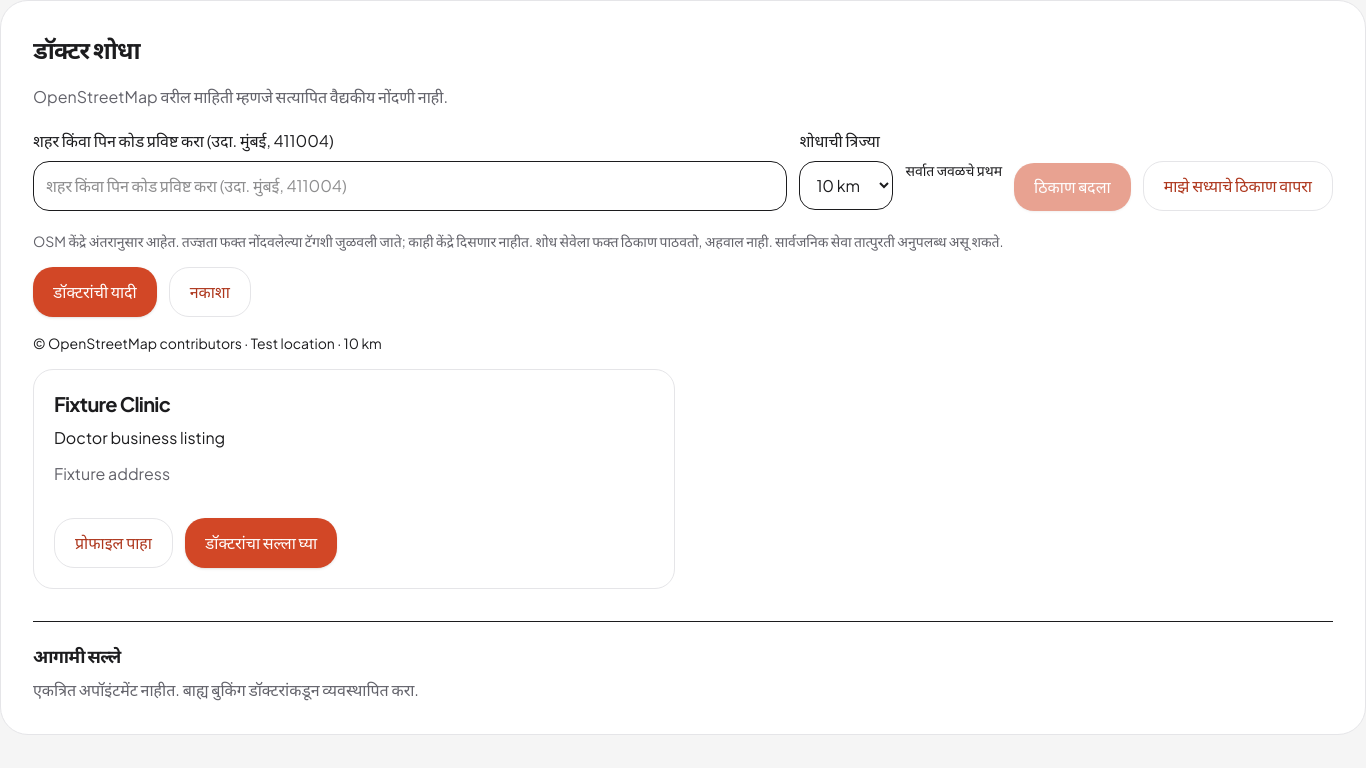
Test: Consultation and explicit report consent › supports consultation consent in mr
Expected: the heading "Fixture Clinic" is shown, top-left (54, 391), bottom-right (170, 416)
Click the button "प्रोफाइल पाहा": (114, 543) top-left (54, 518), bottom-right (173, 568)
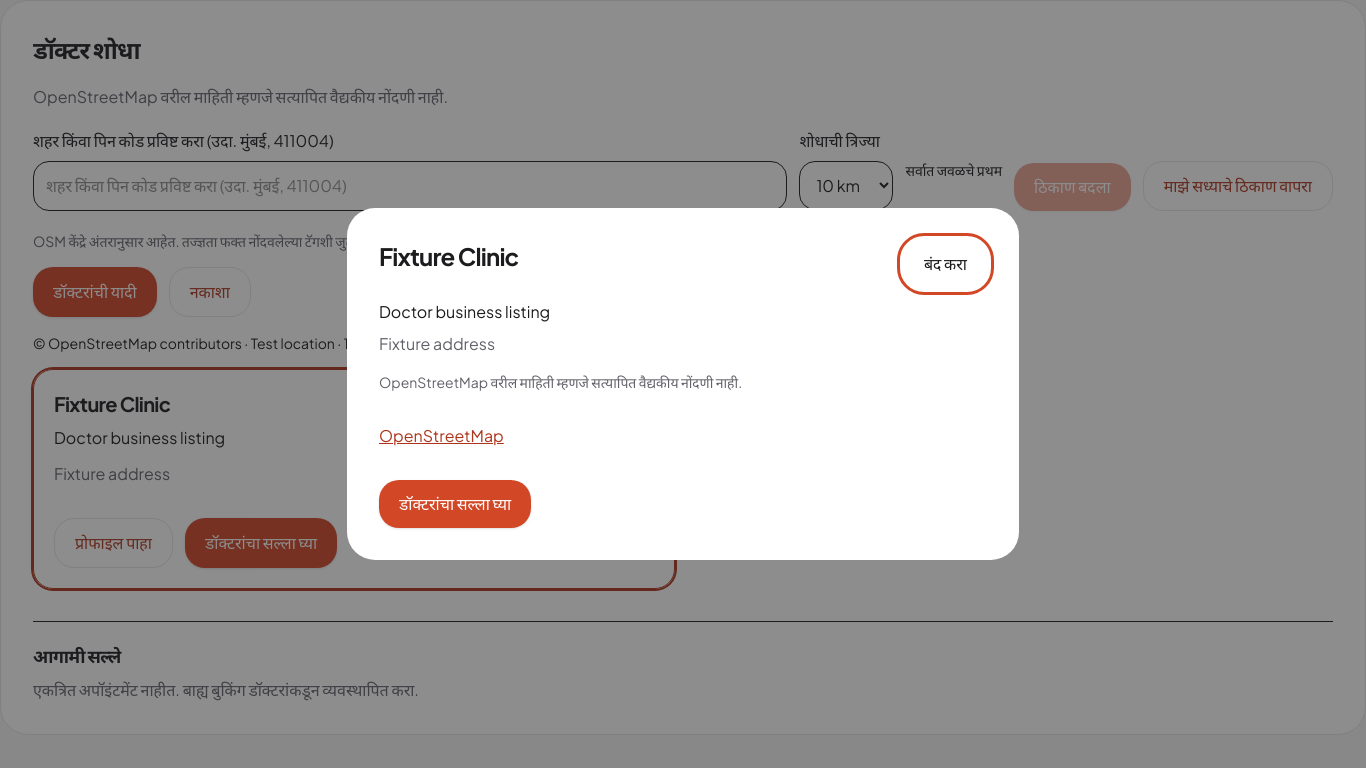
Click the button "डॉक्टरांचा सल्ला घ्या": (455, 504) top-left (379, 480), bottom-right (531, 528)
(page scrolled)
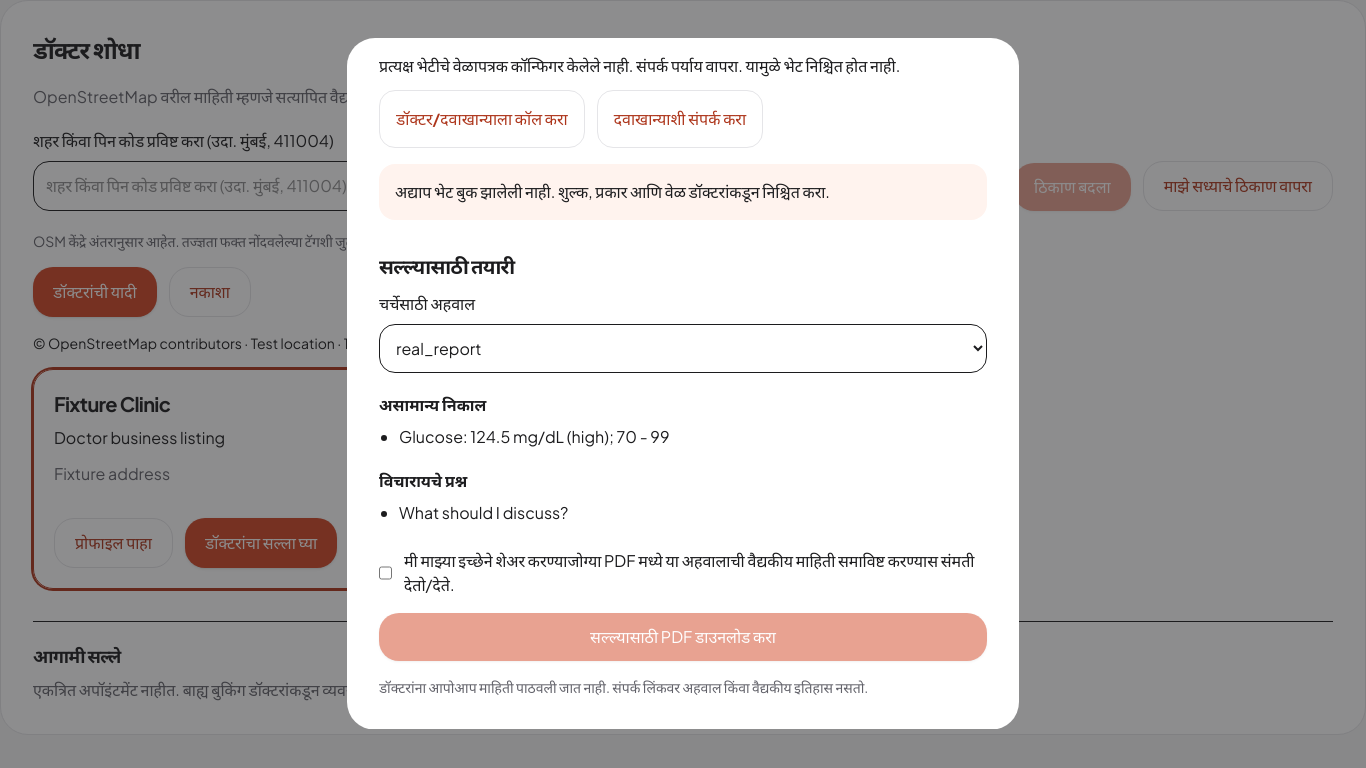
Now the checkbox is not checked, box top-left (379, 549), bottom-right (392, 597)
